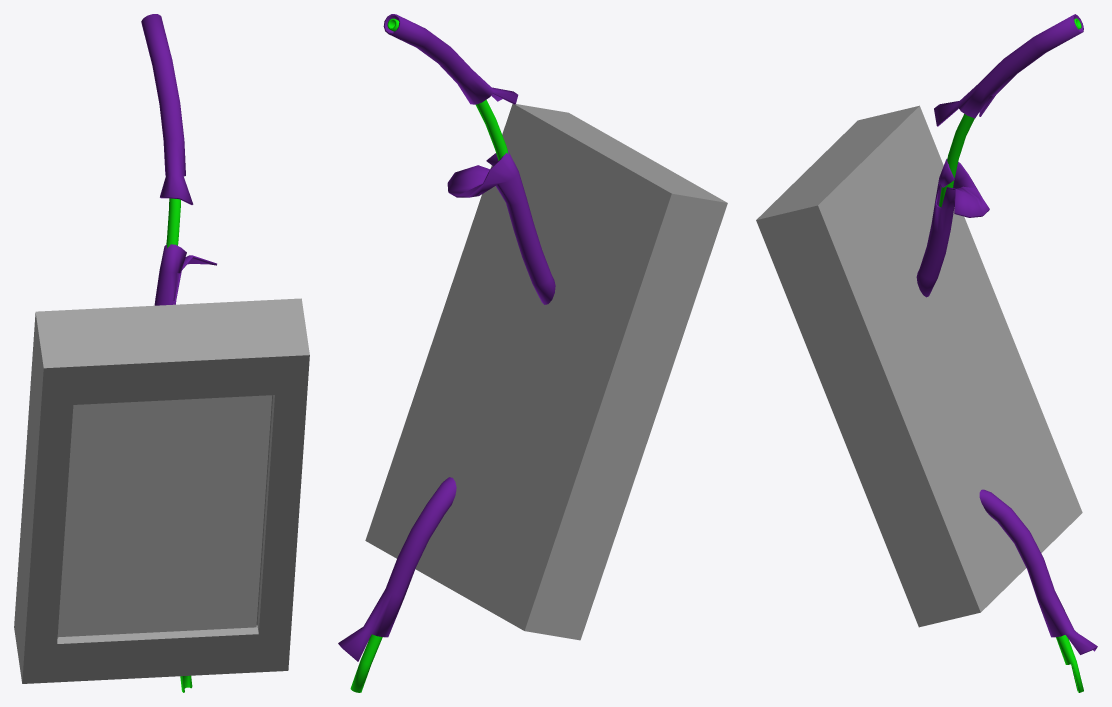
File: BrokenPanel.fbx
The picture shows the model from 3 angles, left to right: view 1: azimuth 30°, elevation 25°; view 2: azimuth 150°, elevation 25°; view 3: azimuth 270°, elevation 25°; orthographic projection. The views are drawn at different scales.
Visible parts, largest first — view 1: 密码锁 Broken; view 2: 密码锁 Broken; view 3: 密码锁 Broken.
Boxes of the visible parts, x1,y1,x2,y2 form: 密码锁 Broken: (14,14,309,692); 密码锁 Broken: (338,14,727,692); 密码锁 Broken: (756,14,1097,692).
Size of the model in its own units: 49.43 by 108 by 50.74.
